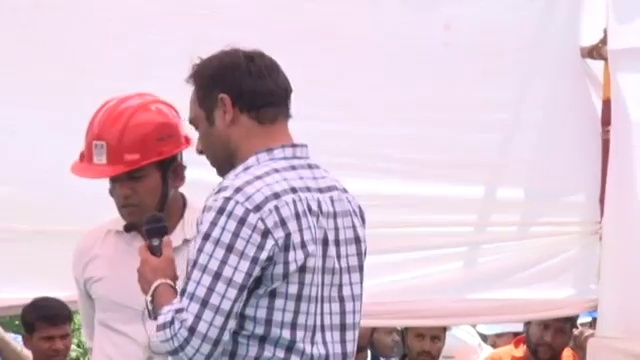helmet: (69, 88, 193, 184), (446, 324, 496, 359)
helmet_off: (187, 53, 292, 180), (19, 293, 74, 359), (522, 319, 575, 353), (365, 326, 409, 360), (409, 327, 450, 360)
helmet_on: (69, 91, 191, 234)
person: (143, 39, 371, 359), (71, 80, 218, 360), (486, 315, 582, 360)
